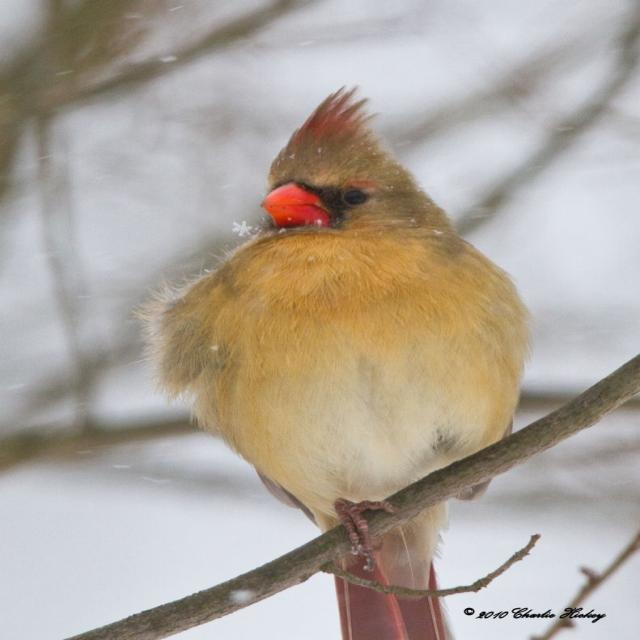bird: (138, 80, 546, 589)
